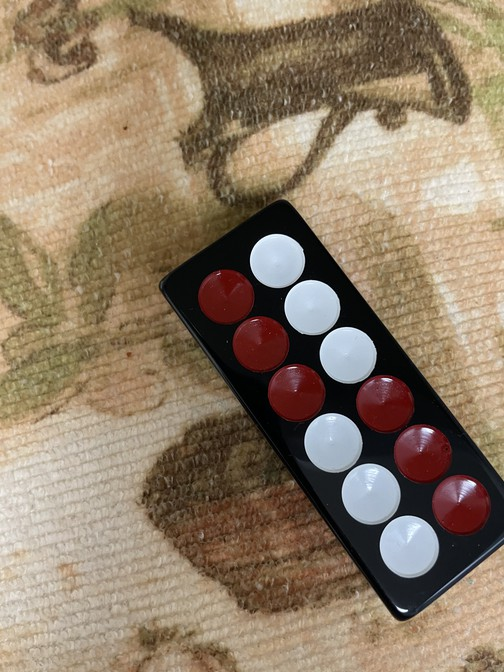heaven: (158, 200, 504, 622)
